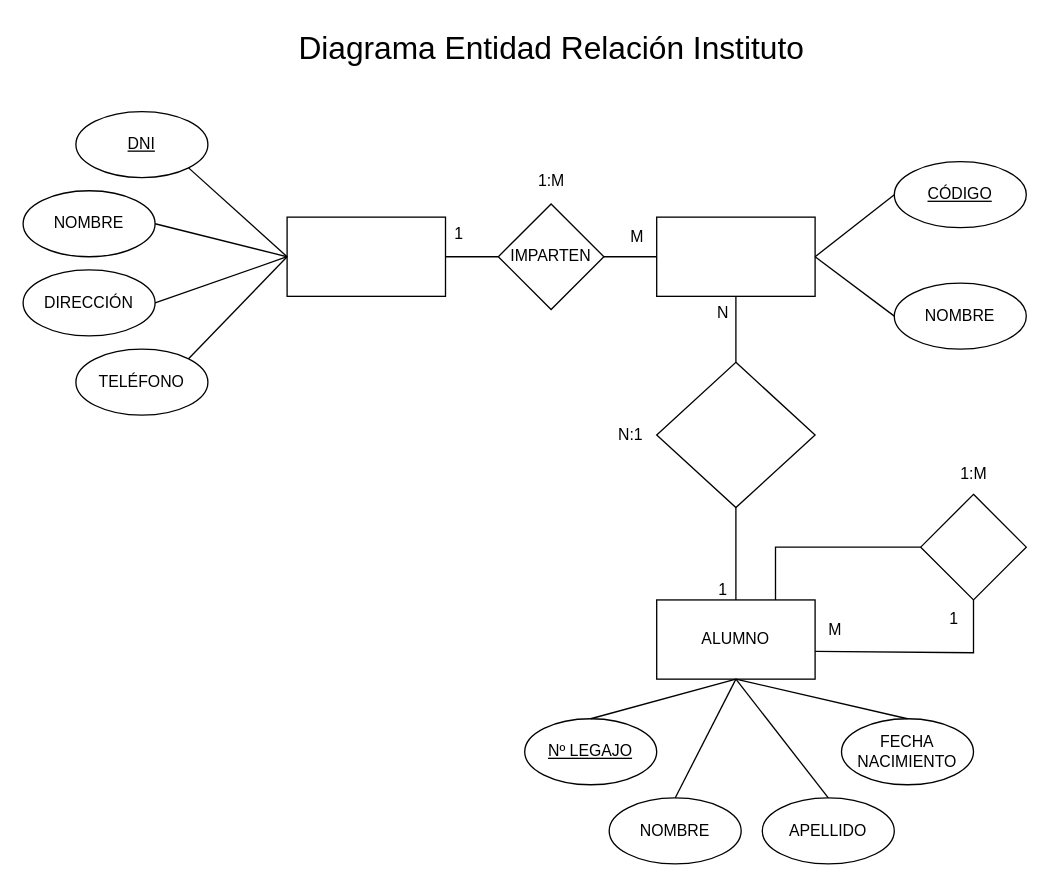
Some shapes in this 1049 by 887 pixel diagram are drawn without their labels. Here are the shapes that lost their labels. From the top down, the centre of each, then its label:
At point 366,256: "PROFESORES".
At point 735,256: "MÓDULO".
At point 735,434: "MATRICULADO".
At point 972,546: "DELEGADO".
